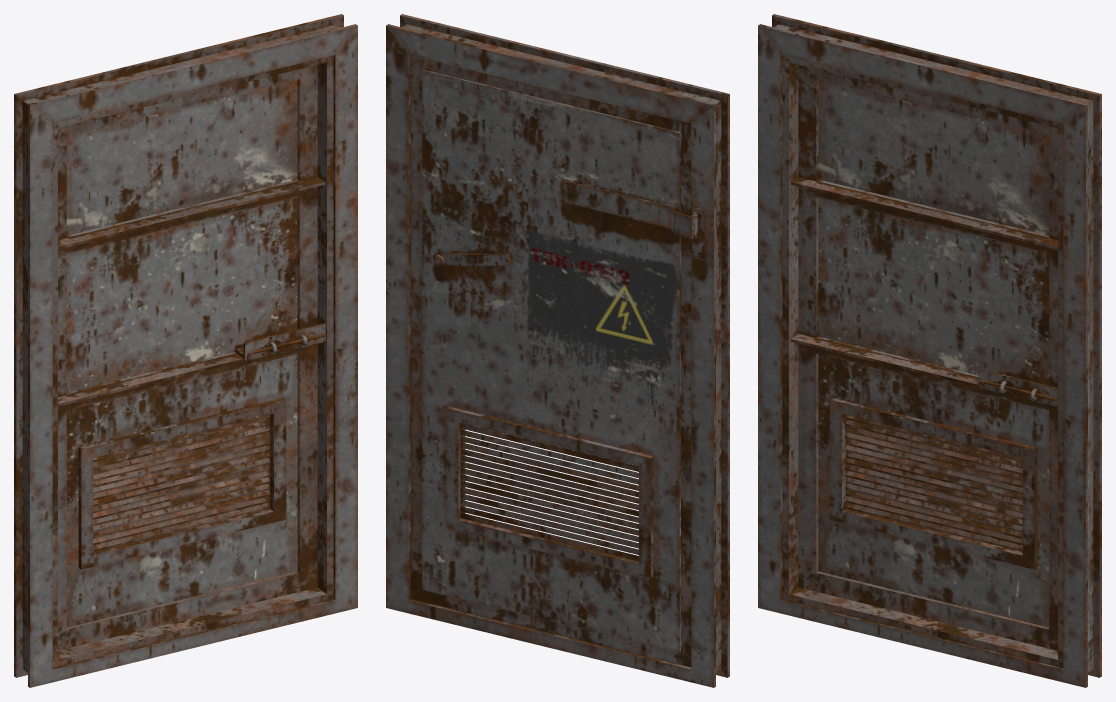
Rendered from Rust Metal Door.001.fbx.
3 views of the same model, side by side, from view 1: azimuth 30°, elevation 25°; view 2: azimuth 150°, elevation 25°; view 3: azimuth 330°, elevation 25° (orthographic).
Visible parts, largest first — view 1: Rust Metal Door.001_Baked; view 2: Rust Metal Door.001_Baked; view 3: Rust Metal Door.001_Baked.
Boxes of the visible parts, <box> form: Rust Metal Door.001_Baked: <box>14,14,357,687</box>; Rust Metal Door.001_Baked: <box>386,14,729,687</box>; Rust Metal Door.001_Baked: <box>758,14,1101,687</box>.
Bounding box in the file's own units: 1.44 × 0.1774 × 2.45.
1 material, 1 textured.
